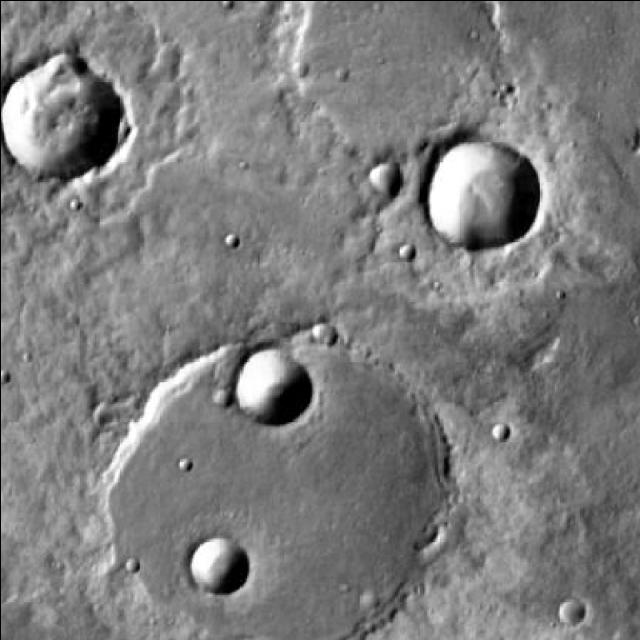crater: (108, 323, 450, 640), (278, 0, 497, 157), (2, 52, 124, 174), (426, 142, 540, 253), (232, 350, 308, 424), (188, 540, 246, 596), (366, 160, 402, 197), (558, 598, 584, 622), (312, 326, 334, 346), (209, 388, 231, 408), (490, 423, 507, 440), (401, 241, 416, 257)
